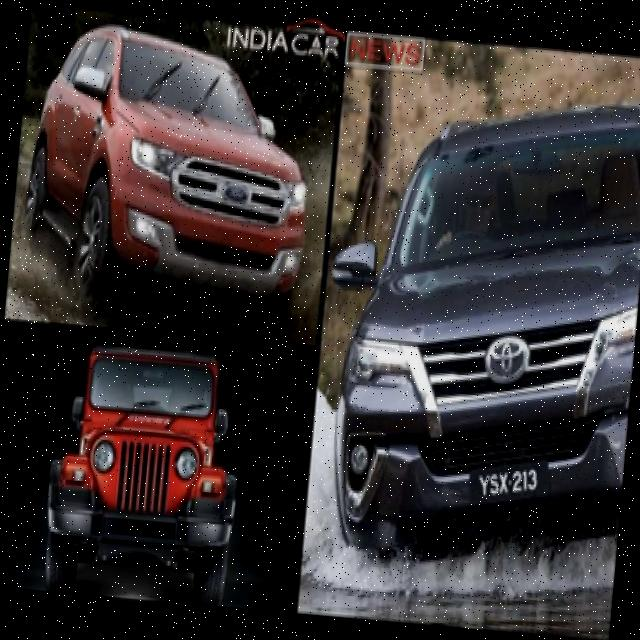Autre: (474, 456, 554, 509)
